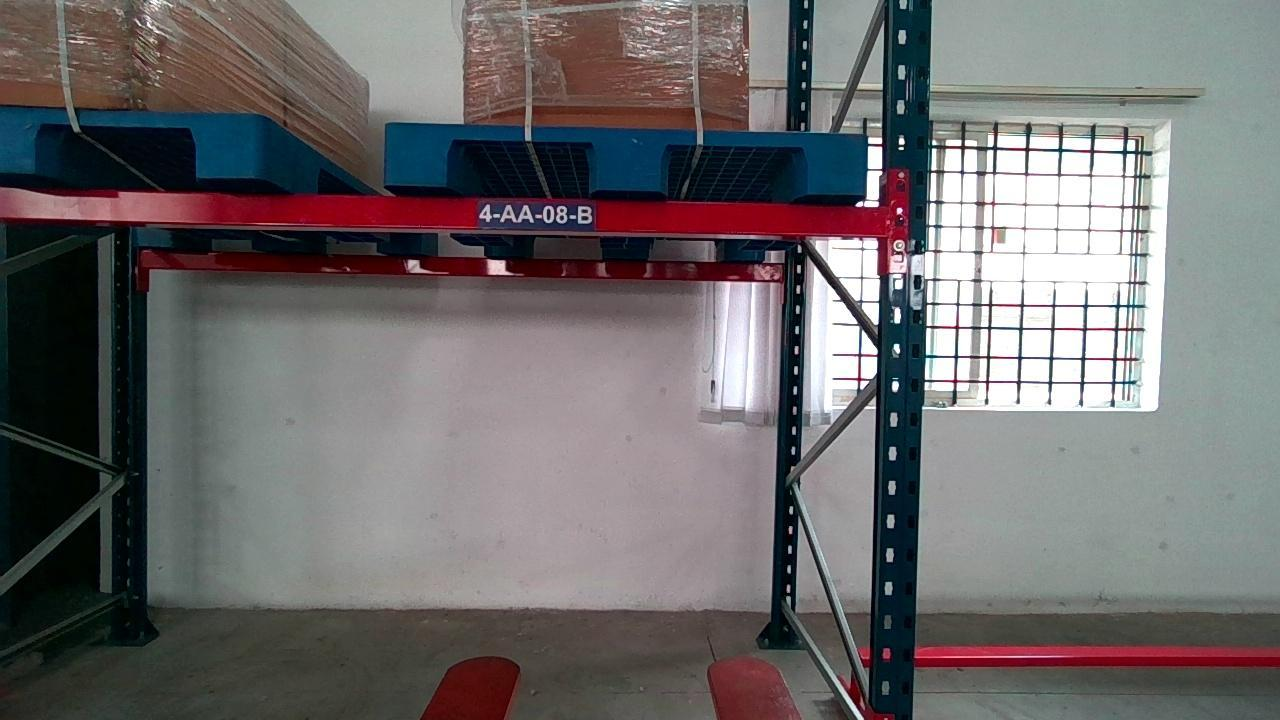h_rack: (6, 188, 890, 236)
small_pallet: (384, 123, 867, 198)
